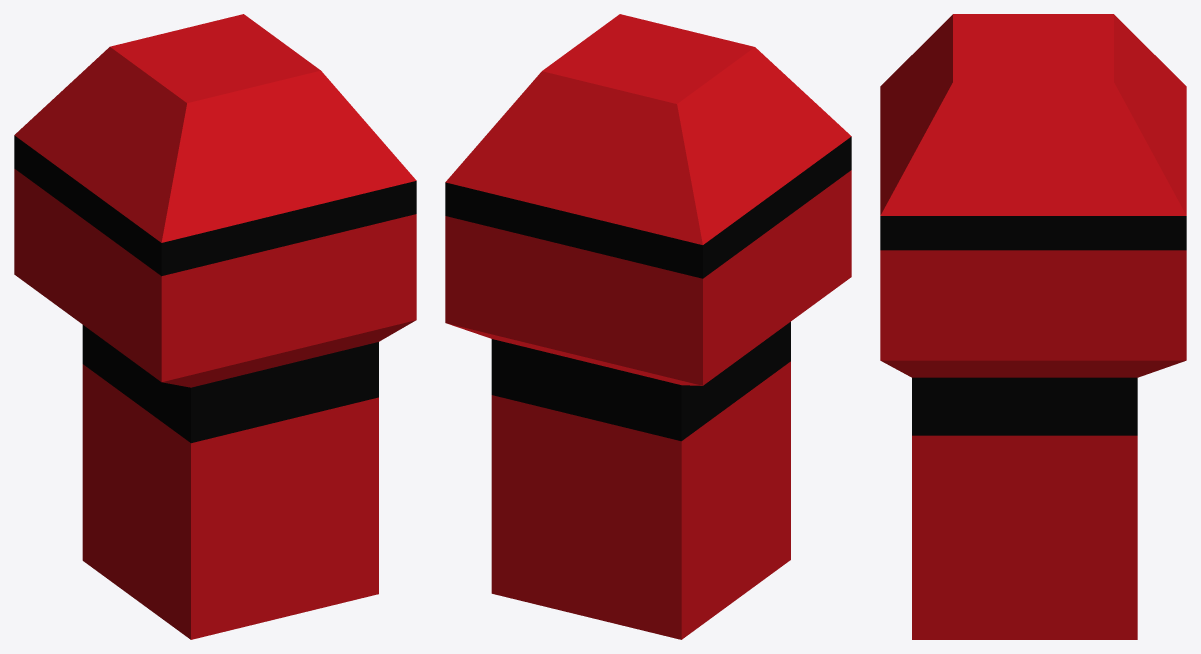
3 views of the same model, side by side, from view 1: azimuth 30°, elevation 25°; view 2: azimuth 150°, elevation 25°; view 3: azimuth 270°, elevation 25° (orthographic). The views are drawn at different scales.
Visible parts, largest first — view 1: Cube; view 2: Cube; view 3: Cube.
Boxes of the visible parts, x1,y1,x2,y2 form: Cube: [14, 14, 416, 639]; Cube: [445, 14, 851, 639]; Cube: [880, 14, 1186, 639].
Bounding box in the file's own units: 271 × 527 × 271.
